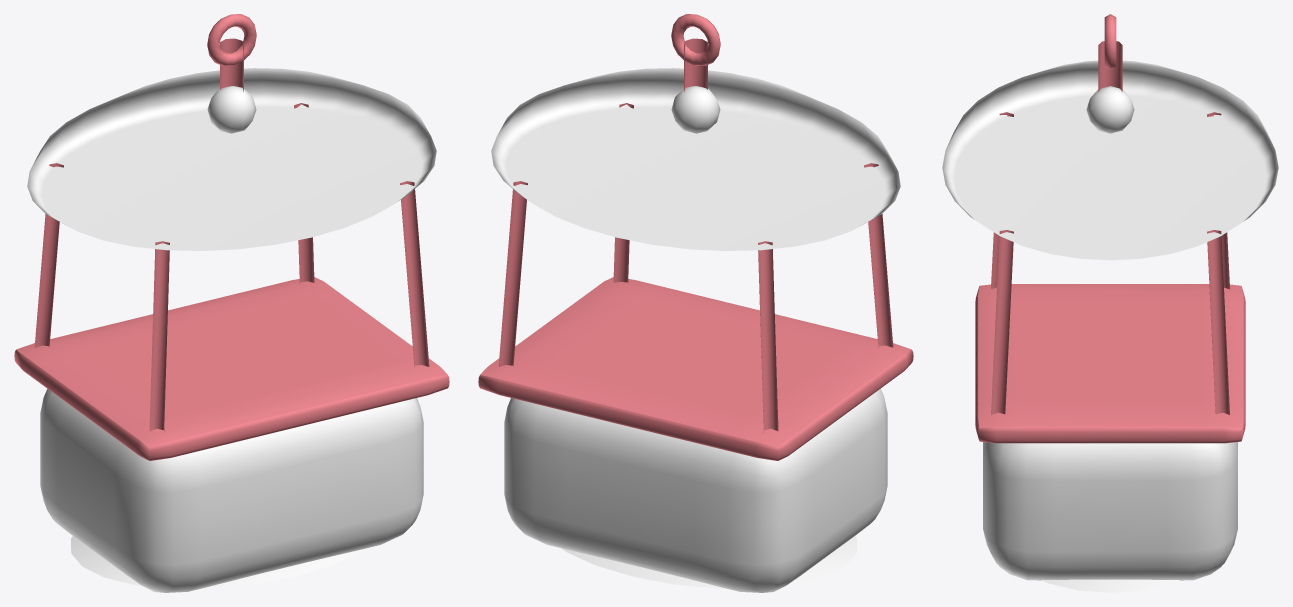
Rendered from LobbyFerrisCabin.glb.
3 views of the same model, side by side, from view 1: azimuth 30°, elevation 25°; view 2: azimuth 150°, elevation 25°; view 3: azimuth 270°, elevation 25° (orthographic). The views are drawn at different scales.
Parts seen in each view (by area): view 1: Roof, Frame, Body; view 2: Roof, Frame, Body; view 3: Roof, Frame, Body.
Boxes of the visible parts, left/top/right/bottom form: Roof: left=27, top=68, right=436, bottom=250; Frame: left=14, top=14, right=449, bottom=460; Body: left=40, top=389, right=423, bottom=592; Roof: left=491, top=68, right=900, bottom=250; Frame: left=478, top=14, right=913, bottom=460; Body: left=504, top=389, right=887, bottom=592; Roof: left=942, top=60, right=1278, bottom=260; Frame: left=975, top=14, right=1245, bottom=443; Body: left=983, top=442, right=1237, bottom=592.
Bounding box in the file's own units: 5.6 × 7.57 × 4.48.
